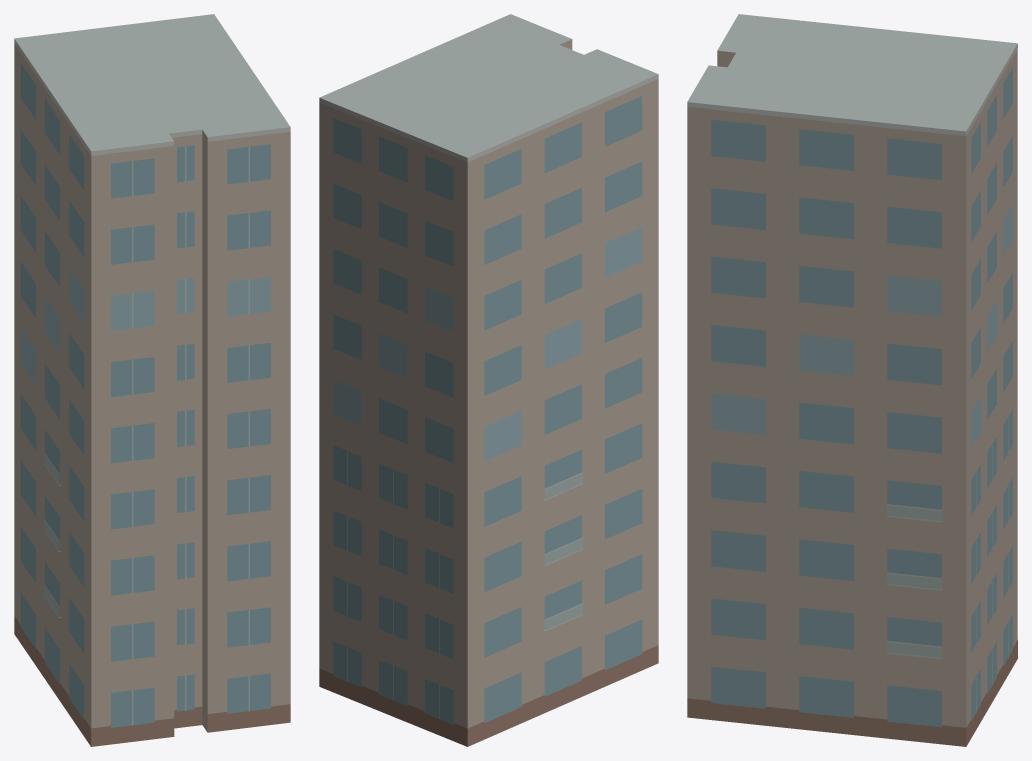
Rendered from survey-upis-33044065.glb.
3 renders of one model, left to right at view 1: azimuth 30°, elevation 25°; view 2: azimuth 150°, elevation 25°; view 3: azimuth 270°, elevation 25°, orthographic. The views are drawn at different scales.
Visible parts, largest first — view 1: survey-upis-33044065.tmp; view 2: survey-upis-33044065.tmp; view 3: survey-upis-33044065.tmp.
Part boxes in pixels (box(x1,y1,x2,y2)): survey-upis-33044065.tmp: box(14, 14, 290, 746); survey-upis-33044065.tmp: box(319, 14, 658, 746); survey-upis-33044065.tmp: box(687, 14, 1017, 746).
Bounding box in the file's own units: 12.83 × 31.3 × 15.25.
